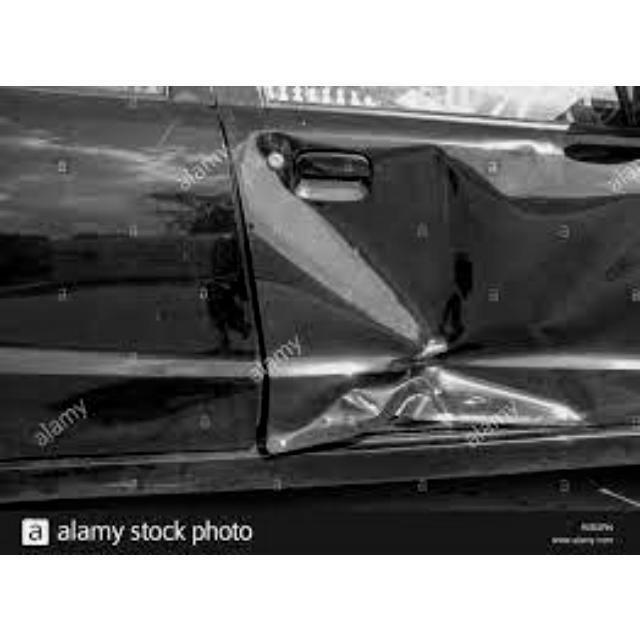doorouter-dent: (249, 88, 637, 451)
